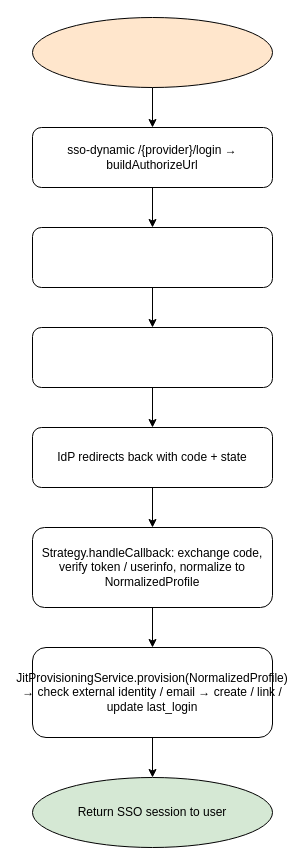
Image size: 305x865. Some labels were removed from this diagram. The centre of each missing label's shape, as x and y in pixels:
Redirect to Identity Provider authorize URL (PKCE/state/nonce): (152,257)
User authenticates at IdP: (152,357)
User clicks Sign in with Provider: (152,52)
